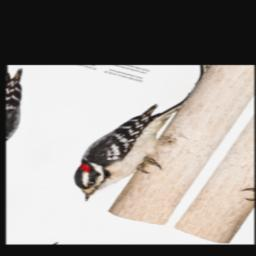Woodpecker: (56, 96, 199, 214)
